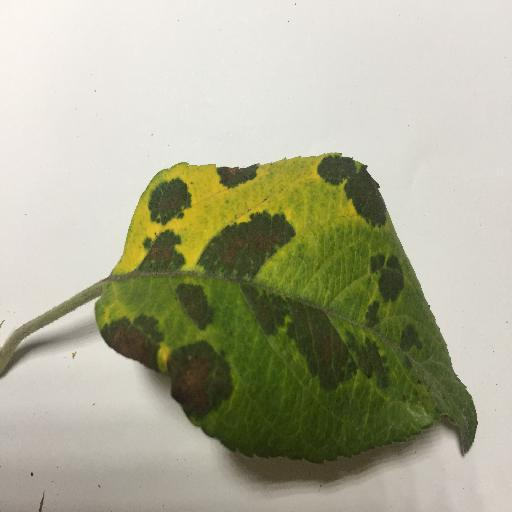Brown_Spot: (254, 291, 355, 377), (319, 158, 389, 218), (170, 354, 218, 414), (212, 237, 293, 269), (100, 321, 154, 364), (174, 284, 211, 321), (131, 243, 179, 271), (152, 186, 190, 221), (210, 168, 255, 184)
